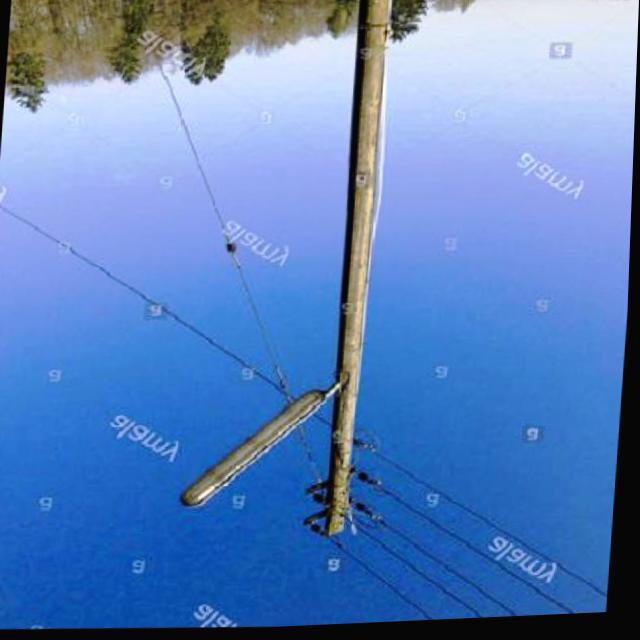poles: (315, 0, 392, 541)
wires: (3, 36, 296, 393), (320, 440, 610, 625)
